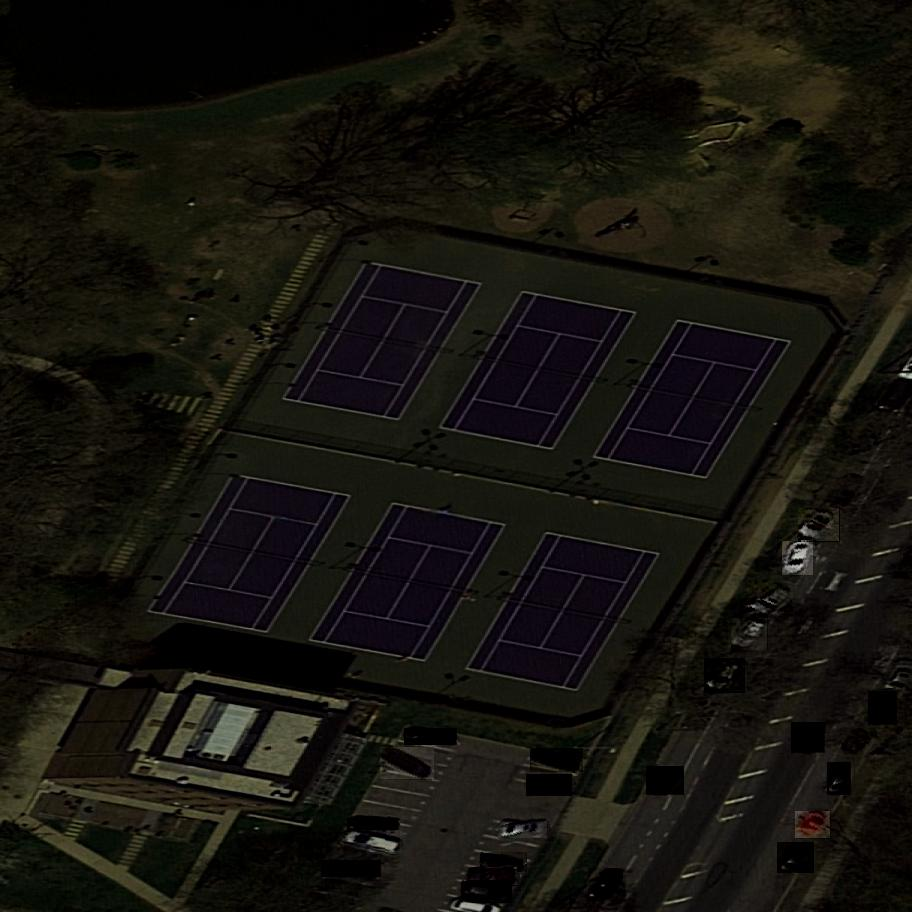small-vehicle: (746, 575, 793, 622), (380, 745, 435, 783), (705, 654, 746, 699), (799, 504, 840, 547), (588, 863, 626, 908), (342, 829, 403, 855), (778, 838, 815, 880), (732, 614, 769, 656), (840, 723, 877, 764), (646, 762, 684, 801), (532, 747, 584, 775), (783, 536, 815, 581), (796, 806, 832, 844), (792, 719, 826, 758), (462, 880, 513, 904), (869, 688, 897, 729), (525, 774, 574, 796), (322, 860, 380, 878), (481, 852, 527, 874), (404, 728, 457, 746), (467, 868, 519, 886), (497, 821, 548, 838), (828, 761, 851, 798), (347, 818, 398, 832)
